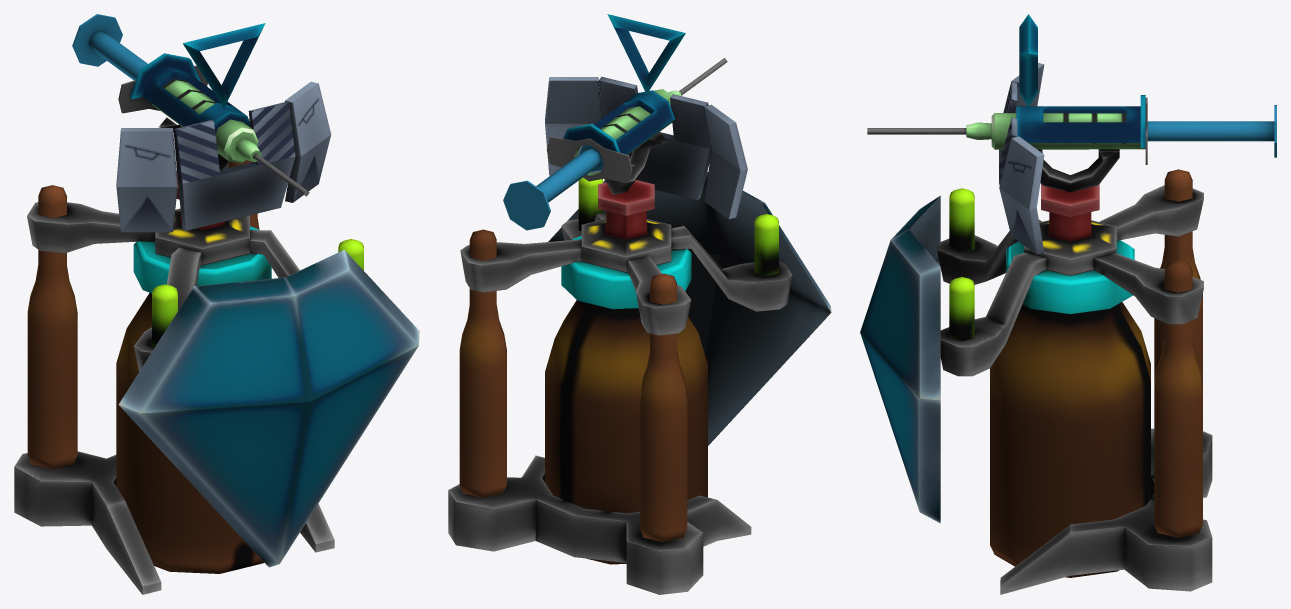
The model's file is Syringe LMG Level 2 Anime.fbx.
3 renders of one model, left to right at view 1: azimuth 30°, elevation 25°; view 2: azimuth 150°, elevation 25°; view 3: azimuth 270°, elevation 25°, orthographic. The views are drawn at different scales.
Visible parts, largest first — view 1: Front_Guard, Medicine_Bottel, advance_medicine, Holder, Guard, Side_sheild, Syringe_Guard, Syringe, Syringe_pusher; view 2: Medicine_Bottel, Front_Guard, advance_medicine, Holder, Guard, Side_sheild, Syringe_Guard, Syringe, Syringe_pusher; view 3: Medicine_Bottel, Front_Guard, advance_medicine, Holder, Syringe_Guard, Side_sheild, Syringe, Syringe_pusher, Guard.
Boxes of the visible parts, x1,y1,x2,y2 form: Front_Guard: [27, 162, 419, 567]; Medicine_Bottel: [116, 171, 271, 573]; advance_medicine: [27, 160, 259, 469]; Holder: [14, 451, 334, 594]; Guard: [159, 101, 295, 230]; Side_sheild: [116, 81, 331, 232]; Syringe_Guard: [129, 23, 265, 133]; Syringe: [118, 65, 309, 196]; Syringe_pusher: [72, 14, 147, 80]; Medicine_Bottel: [545, 180, 707, 564]; Front_Guard: [460, 171, 831, 445]; advance_medicine: [459, 229, 687, 542]; Holder: [448, 455, 751, 594]; Guard: [599, 76, 711, 199]; Side_sheild: [545, 77, 747, 219]; Syringe_Guard: [563, 14, 685, 154]; Syringe: [546, 58, 727, 182]; Syringe_pusher: [503, 144, 603, 230]; Medicine_Bottel: [990, 184, 1150, 577]; Front_Guard: [860, 185, 1203, 523]; advance_medicine: [1154, 169, 1202, 537]; Holder: [1000, 428, 1212, 594]; Syringe_Guard: [1016, 14, 1145, 147]; Side_sheild: [999, 63, 1044, 254]; Syringe: [867, 97, 1147, 164]; Syringe_pusher: [1147, 105, 1276, 157]; Guard: [999, 81, 1119, 191].
Size of the model in its own units: 314 by 525 by 385.
Materials: 1 (1 with a texture image).
